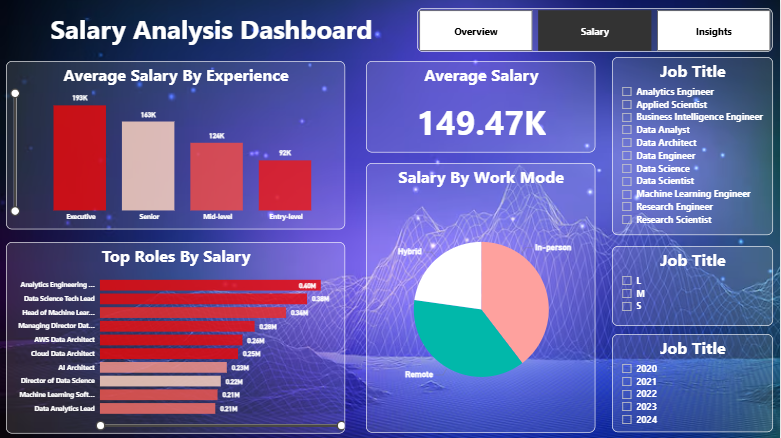

What the dashboard file says about the page in this screenshot:
{"tool":"powerbi","page":{"name":"Salary","canvas":[1280,720],"ordinal":1},"visuals":[{"type":"pageNavigator","box":[685.4,13,583.2,72],"z":1},{"type":"textbox","box":[11.8,13.4,673.6,72.2],"z":2},{"type":"cardVisual","title":"Average Salary","fields":{"Data":["Avg(jobs_in_data_2024.Salary_Usd)"]},"box":[602,100,376,150],"z":3},{"type":"columnChart","title":"Average Salary By Experience","fields":{"Category":["jobs_in_data_2024.Experience_Level"],"Y":["Avg(jobs_in_data_2024.Salary_Usd)"]},"box":[12,100,556,276],"z":5},{"type":"clusteredBarChart","title":"Top Roles By Salary","fields":{"Category":["jobs_in_data_2024.Job_Title"],"Y":["Avg(jobs_in_data_2024.Salary_Usd)"]},"box":[12,396,556,314],"z":6},{"type":"pieChart","title":"Salary By Work Mode","fields":{"Category":["jobs_in_data_2024.Work_Setting"],"Y":["Avg(jobs_in_data_2024.Salary_Usd)"]},"box":[602,268,376,442],"z":7},{"type":"slicer","title":"Job Title","fields":{"Values":["jobs_in_data_2024.Job_Title"]},"box":[1004.5,94.1,263.7,292.3],"z":8},{"type":"slicer","title":"Job Title","fields":{"Values":["jobs_in_data_2024.Company_Size"]},"box":[1004.5,403.1,263.7,131],"z":9},{"type":"slicer","title":"Job Title","fields":{"Values":["jobs_in_data_2024.Work_Year"]},"box":[1005.1,547.2,263.5,161.3],"z":10}]}

Visuals, with their boxes in screenshot pixels (x1, y1, x2, y2), scaled from the page's 1280x720 canvas onto the 781x438 screenshot:
pageNavigator: pyautogui.locateOnScreen(418, 8, 774, 52)
textbox: pyautogui.locateOnScreen(7, 8, 418, 52)
"Average Salary" cardVisual: pyautogui.locateOnScreen(367, 61, 597, 152)
"Average Salary By Experience" columnChart: pyautogui.locateOnScreen(7, 61, 347, 229)
"Top Roles By Salary" clusteredBarChart: pyautogui.locateOnScreen(7, 241, 347, 432)
"Salary By Work Mode" pieChart: pyautogui.locateOnScreen(367, 163, 597, 432)
"Job Title" slicer: pyautogui.locateOnScreen(613, 57, 774, 235)
"Job Title" slicer: pyautogui.locateOnScreen(613, 245, 774, 325)
"Job Title" slicer: pyautogui.locateOnScreen(613, 333, 774, 431)
